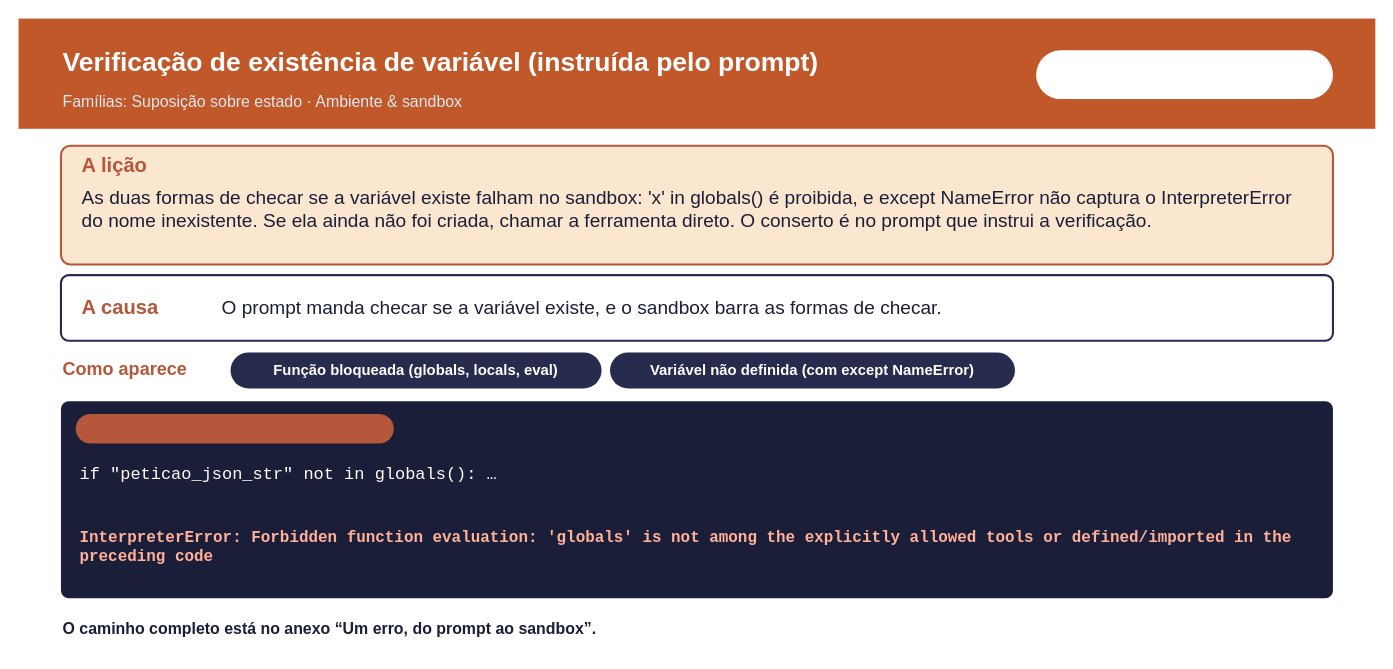
Some shapes in this 1393 by 669 pixel diagram are drawn without their labels. The box of each missing label's shape, as (x1, y1, x2, y2) in pixels:
ContestacaoCivel, jul/26: (75, 413, 393, 443)
Sinal de harness: (1036, 50, 1332, 99)
